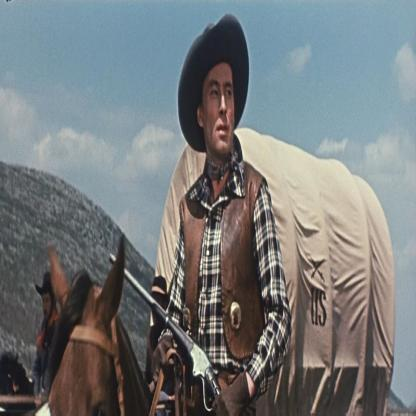gun: (108, 229, 224, 416)
